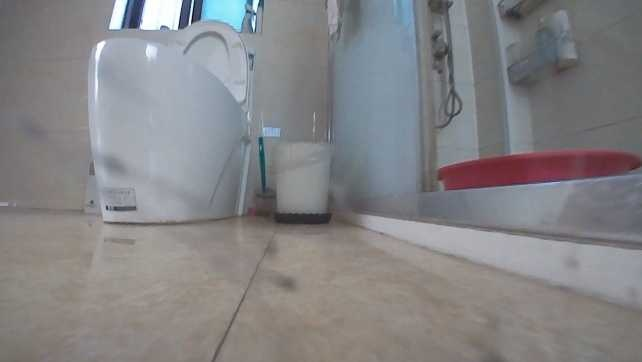toilet: (81, 18, 259, 227)
trash_can: (267, 135, 337, 228)
